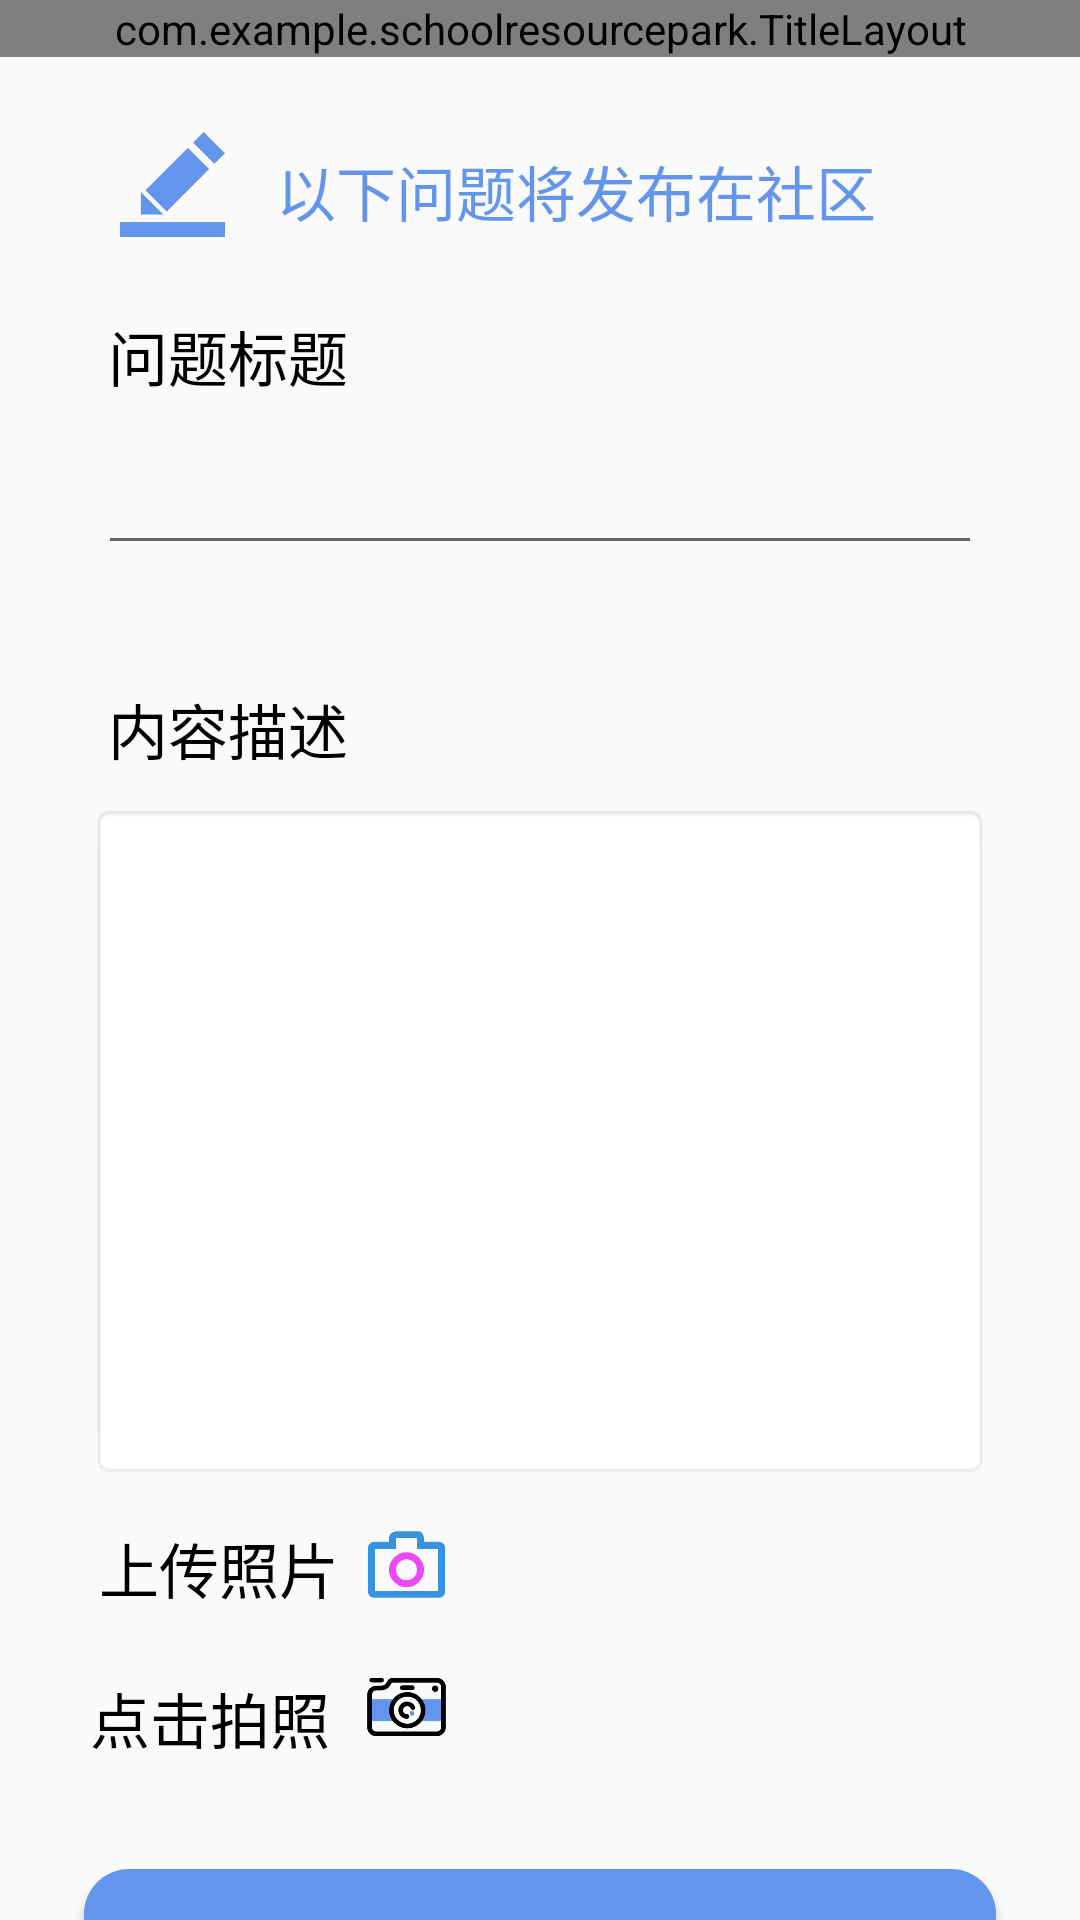

Icons on this 1080x1920 Android screen, each with the point to tap as [x,y]:
pen: [172,184]
photo: [406,1564], [406,1707]
